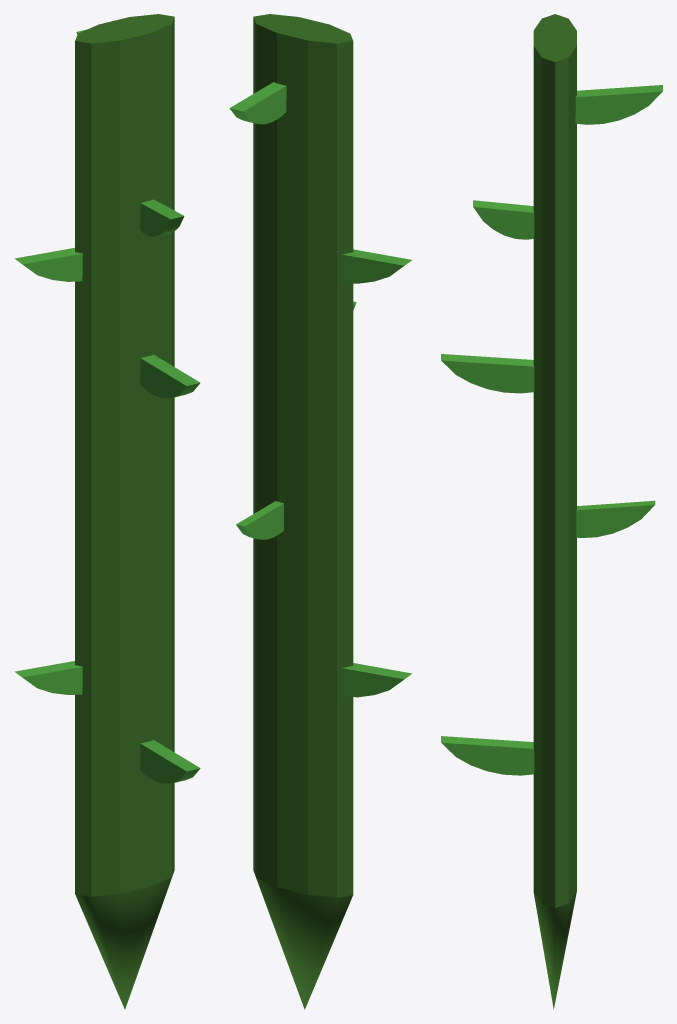
Rendered from Liana.fbx.
3 renders of one model, left to right at view 1: azimuth 30°, elevation 25°; view 2: azimuth 150°, elevation 25°; view 3: azimuth 270°, elevation 25°, orthographic.
Parts seen in each view (by area): view 1: pCylinder3, pCube42, pCube44, pCube40, pCube41, pCube43; view 2: pCylinder3, pCube40, pCube41, pCube39, pCube38; view 3: pCylinder3, pCube42, pCube44, pCube39, pCube38, pCube43.
Part boxes in pixels (x1,y1,x2,y2): pCylinder3: (75,14,174,1009); pCube42: (140,354,200,398); pCube44: (140,740,200,783); pCube40: (14,247,82,281); pCube41: (14,661,82,694); pCube43: (140,199,184,236); pCylinder3: (253,14,353,1009); pCube40: (341,249,411,283); pCube41: (341,663,412,697); pCube39: (229,82,286,124); pCube38: (236,501,283,539); pCylinder3: (533,14,576,1009); pCube42: (441,354,534,393); pCube44: (441,736,534,775); pCube39: (575,85,662,124); pCube38: (576,500,655,537); pCube43: (473,200,534,239).
Bounding box in the file's own units: 0.8632 × 5.19 × 1.07.
